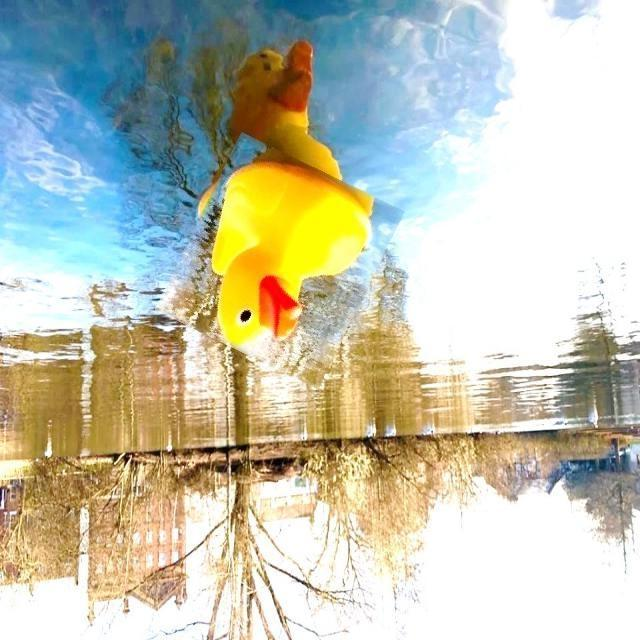rubber-duck: (211, 158, 371, 345)
